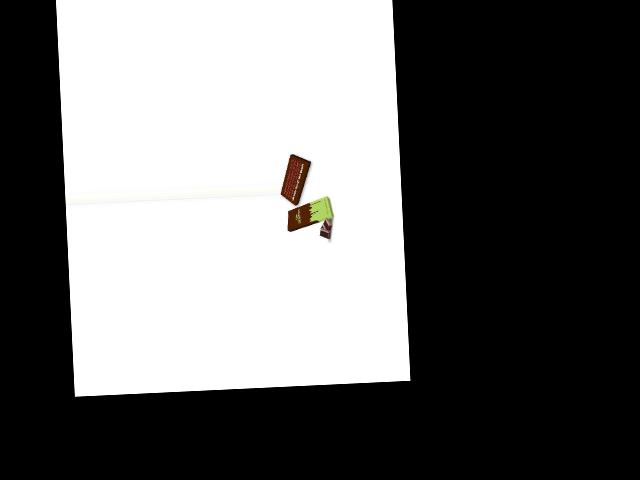chocolate: (285, 198, 335, 228)
